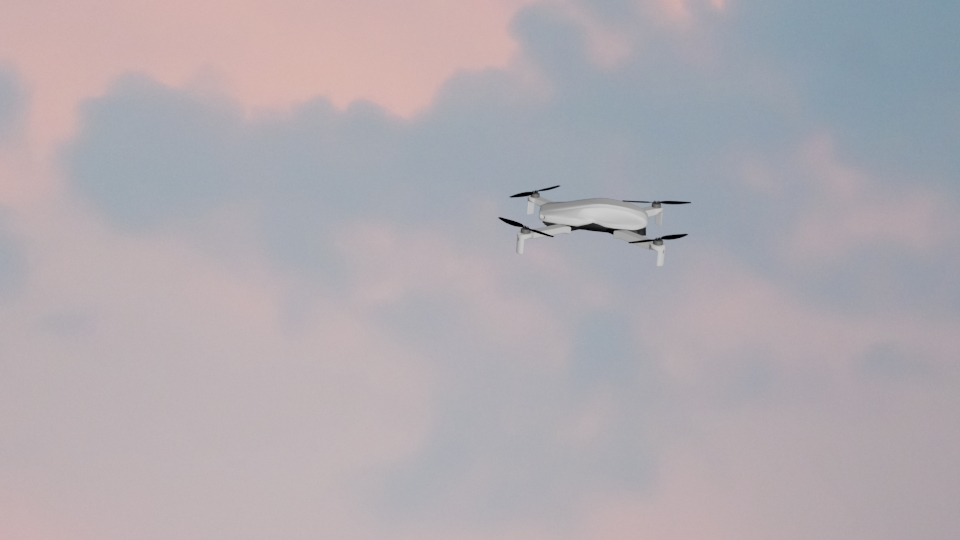drone: (501, 184, 698, 262)
